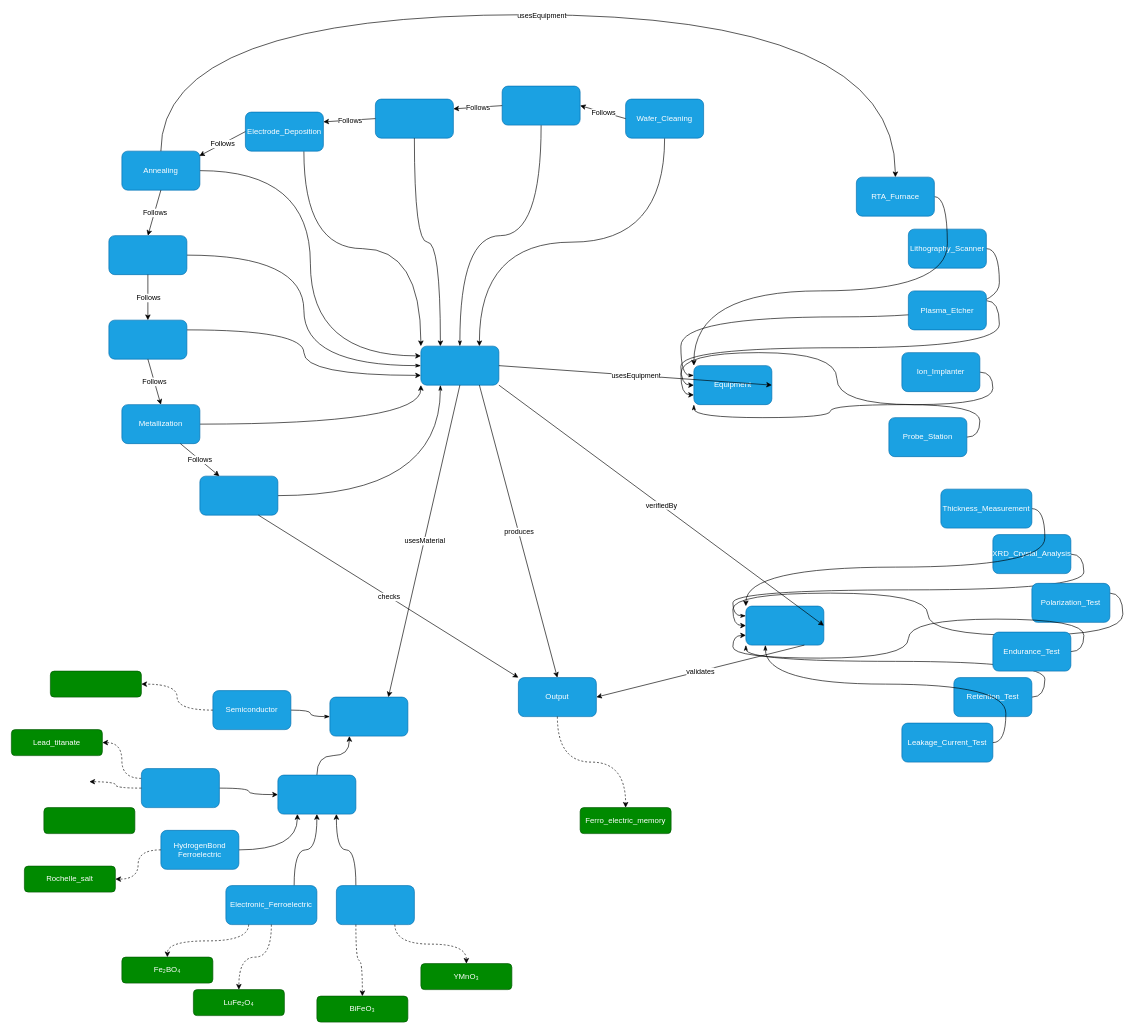
Image size: 1134x1034. Some labels were removed from this diagram. Here are the shapes that lost their labels. From the top down, the centre of each, then its label:
At point (414, 118): "HfO 2 _ Deposition".
At point (540, 105): "Oxidation".
At point (147, 255): "Lithography".
At point (147, 339): "Implantation".
At point (459, 365): "Process_step".
At point (238, 495): "Testing".
At point (784, 625): "Quality_Check".
At point (95, 683): "Silicon".
At point (368, 716): "Materials".
At point (180, 788): "Perovskite_oxide".
At point (316, 794): "Ferroelectric".
At point (89, 820): "Barium_titanate".
At point (375, 905): "Multiferroic_material".
